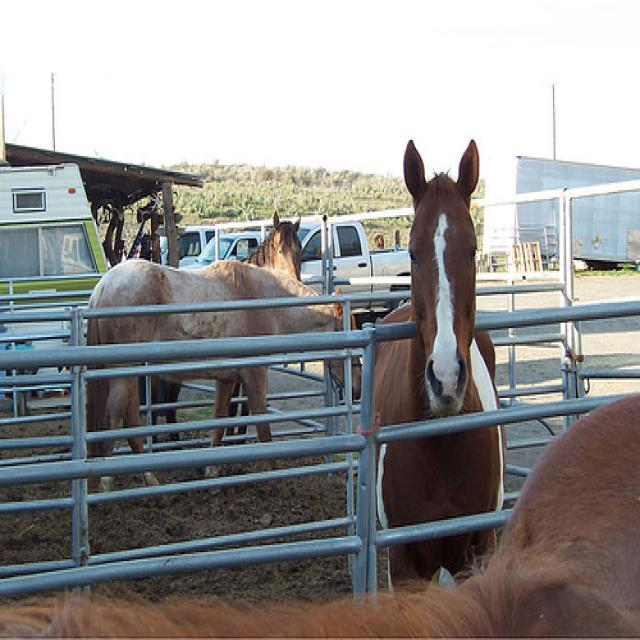Vehicle: (301, 217, 412, 314), (182, 230, 270, 270), (177, 227, 224, 270)
